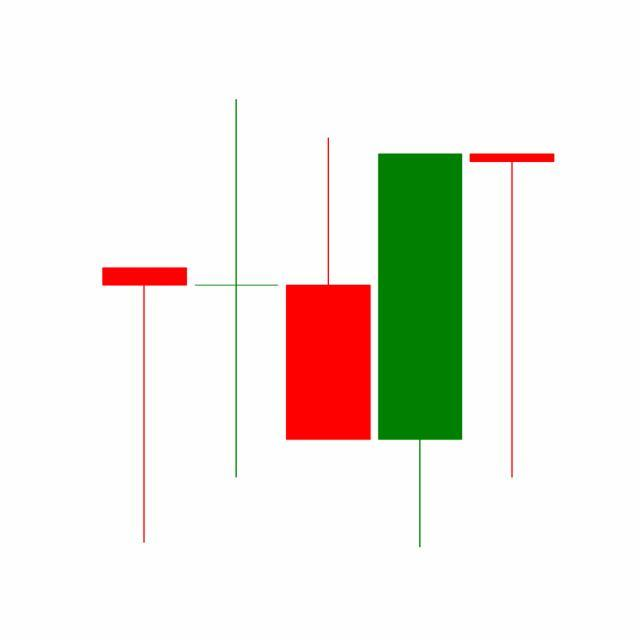Dragonfly Doji: (466, 151, 559, 482)
